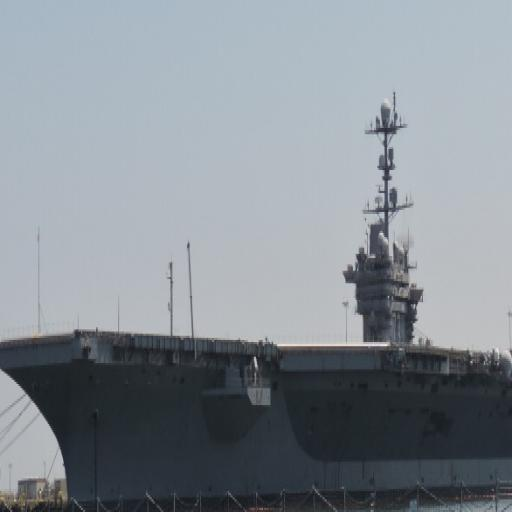Portanaves: (1, 70, 512, 512)
